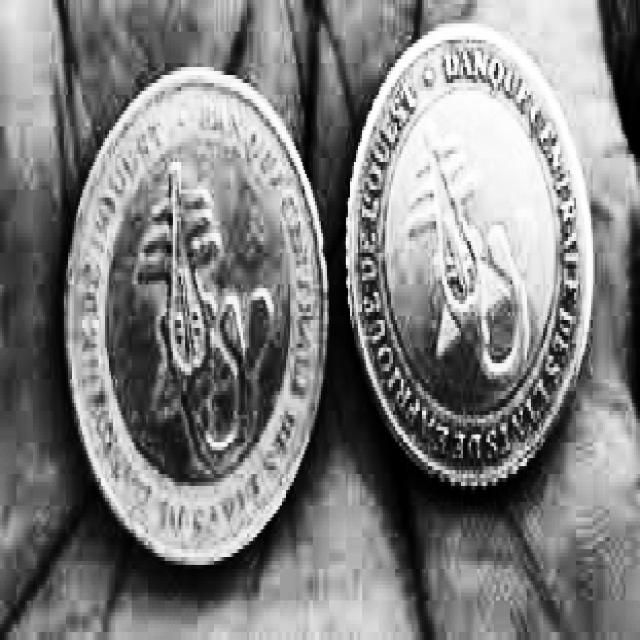teemeer: (65, 72, 327, 564), (347, 26, 593, 490)
